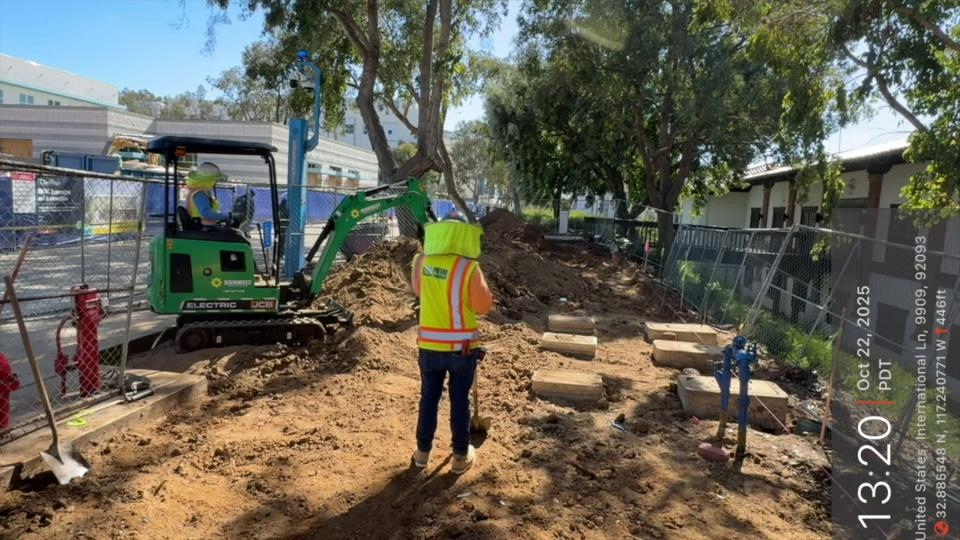Exacavator: (174, 125, 435, 363)
